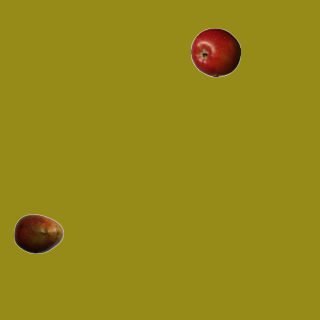Apple Braeburn: (190, 27, 240, 77)
Mango Red: (13, 208, 63, 258)
